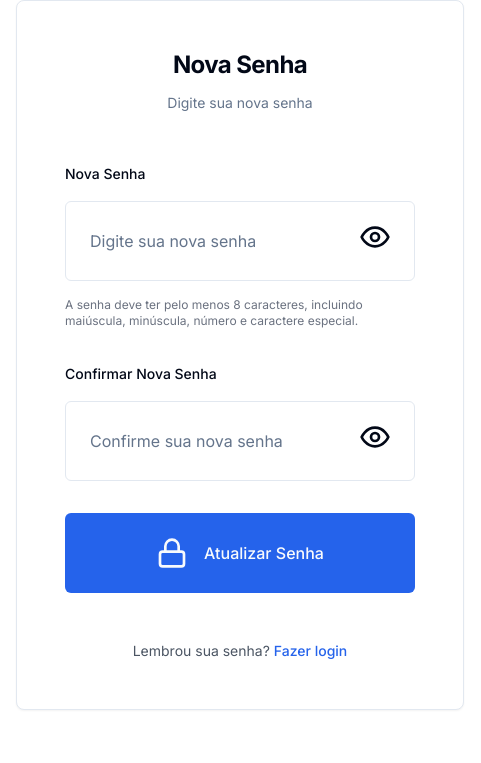
Test: UpdatePasswordForm › Form Validation › shows error for password mismatch
Type "Password123!" into the password field with placeholder "Digite sua nova senha" at (240, 241), box [65,201,415,281]
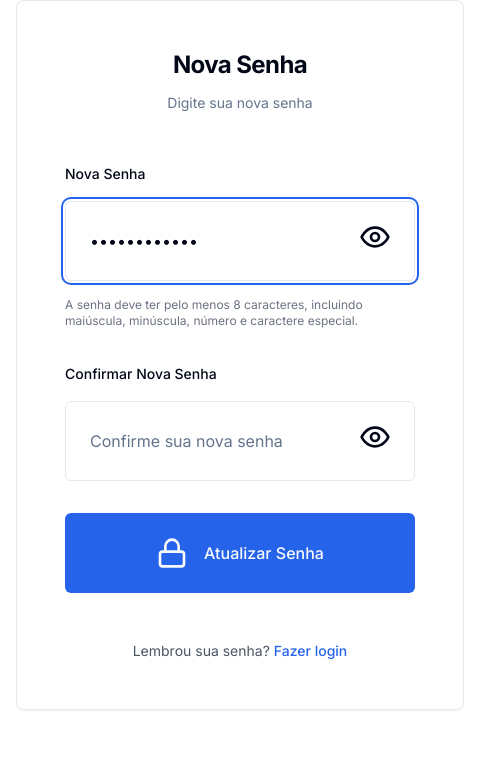
Type "DifferentPassword123!" into the password field with placeholder "Confirme sua nova senha" at (240, 441), box [65,401,415,481]
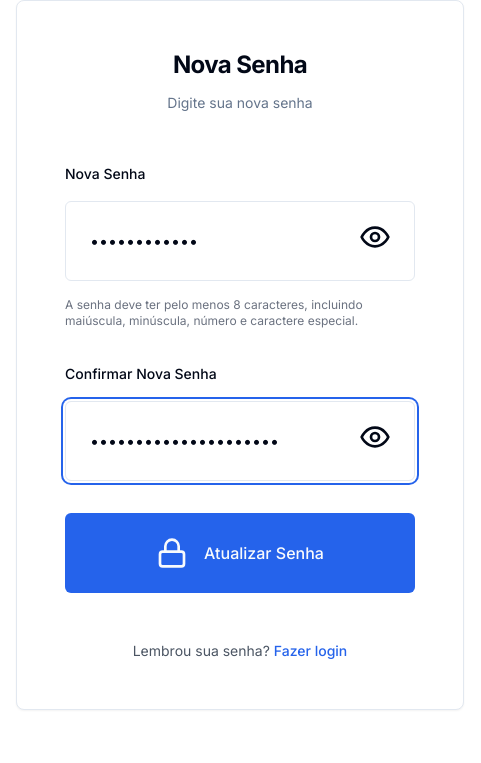
Click the button "Atualizar Senha" at (240, 553), box [65,513,415,593]
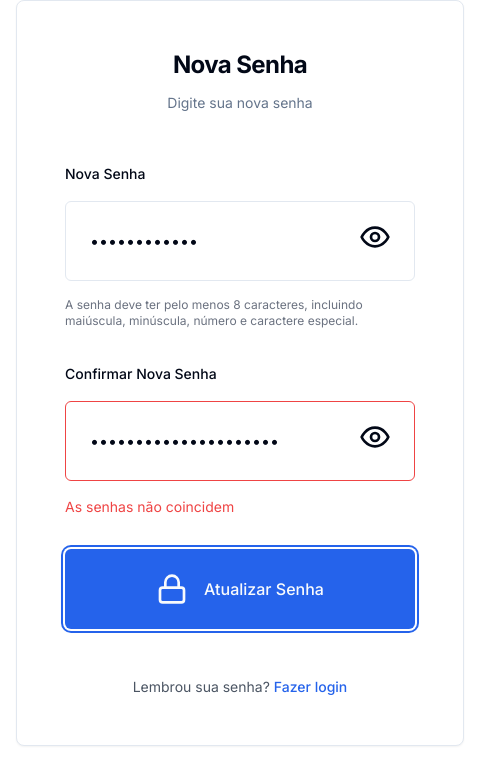
Now the text "As senhas não coincidem" is shown, box [65,498,234,515]
